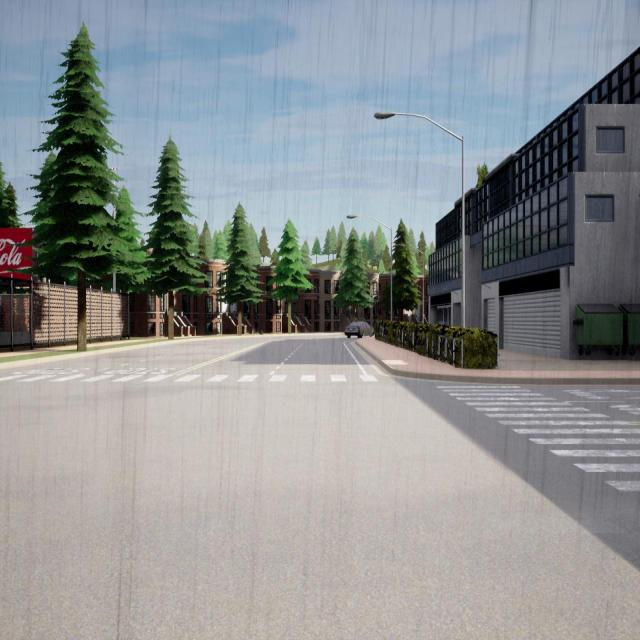Vehicle: (344, 322, 374, 338)
